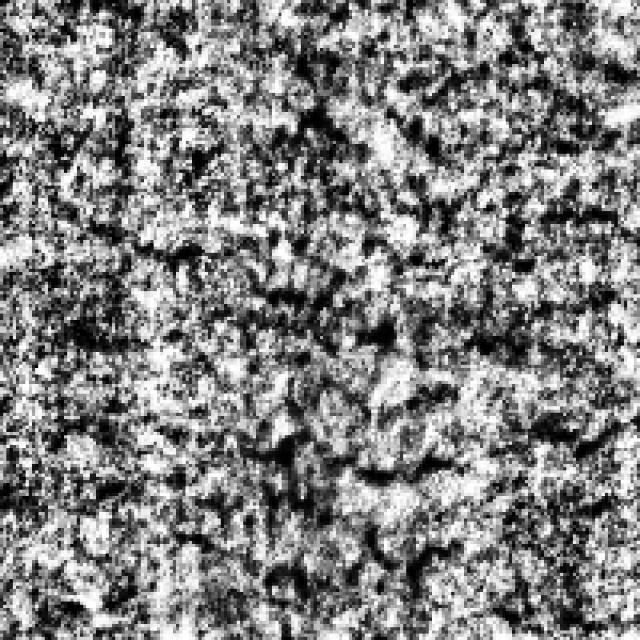Pitted_Surface: (268, 35, 614, 221), (195, 426, 451, 586), (61, 214, 356, 352)
